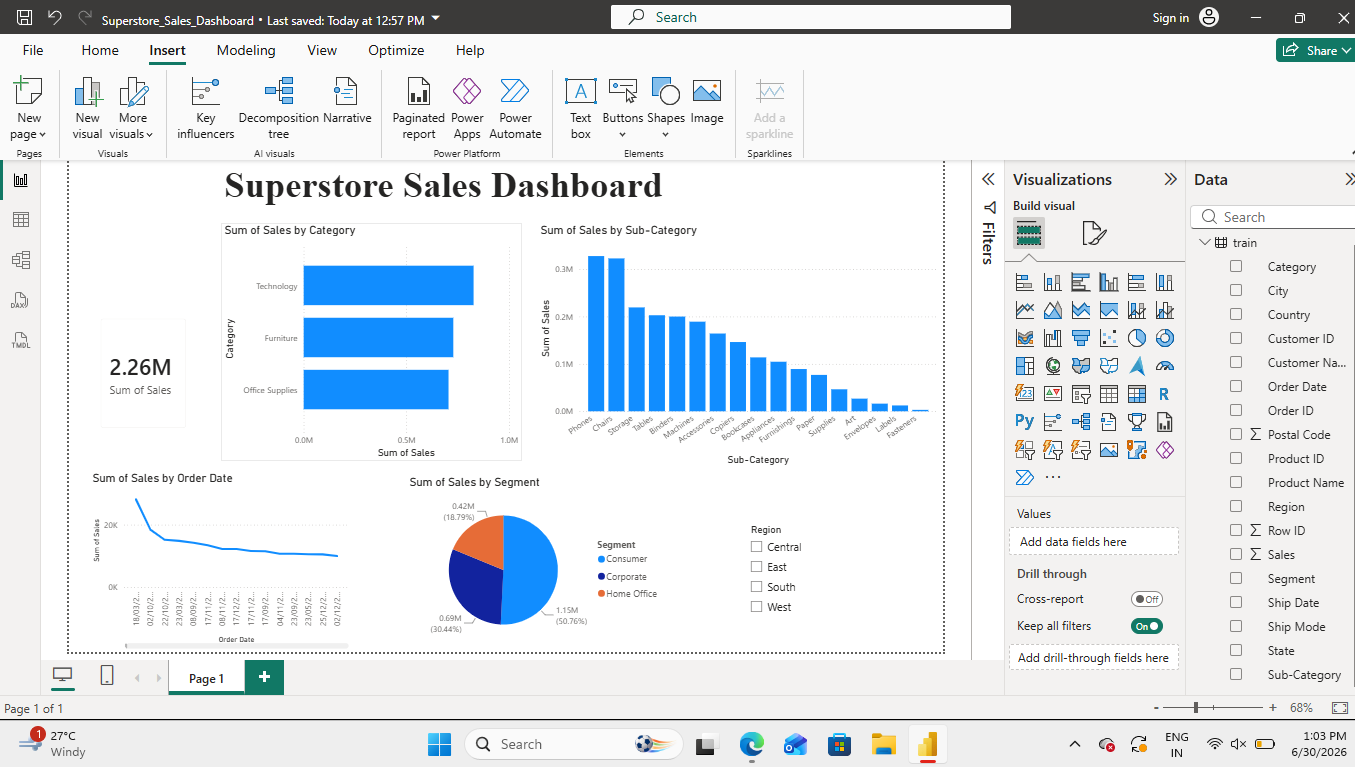

This screenshot's page, from the dashboard's own definition file:
{"tool":"powerbi","page":{"name":"Page 1","canvas":[1280,720],"ordinal":0},"visuals":[{"type":"slicer","fields":{"Values":["train.Region"]},"box":[984.9,528.3,295.6,191.7],"z":0},{"type":"cardVisual","fields":{"Data":["Sum(train.Sales)"]},"box":[29.3,215.1,159.5,194.6],"z":1000},{"type":"clusteredBarChart","fields":{"Category":["train.Category"],"Y":["Sum(train.Sales)"]},"box":[222.4,92.2,440.5,348.3],"z":2000},{"type":"lineChart","fields":{"Category":["train.Order Date"],"Y":["Sum(train.Sales)"]},"box":[29.3,455.1,384.9,264.9],"z":3000},{"type":"pieChart","fields":{"Category":["train.Segment"],"Y":["Sum(train.Sales)"]},"box":[493.2,461,382,259],"z":4000},{"type":"clusteredColumnChart","fields":{"Category":["train.Sub-Category"],"Y":["Sum(train.Sales)"]},"box":[684.9,92.2,589.8,358.5],"z":5000},{"type":"textbox","box":[222.4,0,924.9,92.2],"z":5001}]}

Visuals, with their boxes on the page's 1280x720 design canvas (x1, y1, x2, y2). These are canvas units, not pixel positions in the 1355x767 screenshot, which may show the page scaled, cropped or inside an application window:
slicer - train.Region: bbox(985, 528, 1280, 720)
cardVisual - Sum(train.Sales): bbox(29, 215, 189, 410)
clusteredBarChart - train.Category x Sum(train.Sales): bbox(222, 92, 663, 440)
lineChart - train.Order Date x Sum(train.Sales): bbox(29, 455, 414, 720)
pieChart - train.Segment x Sum(train.Sales): bbox(493, 461, 875, 720)
clusteredColumnChart - train.Sub-Category x Sum(train.Sales): bbox(685, 92, 1275, 451)
textbox: bbox(222, 0, 1147, 92)
